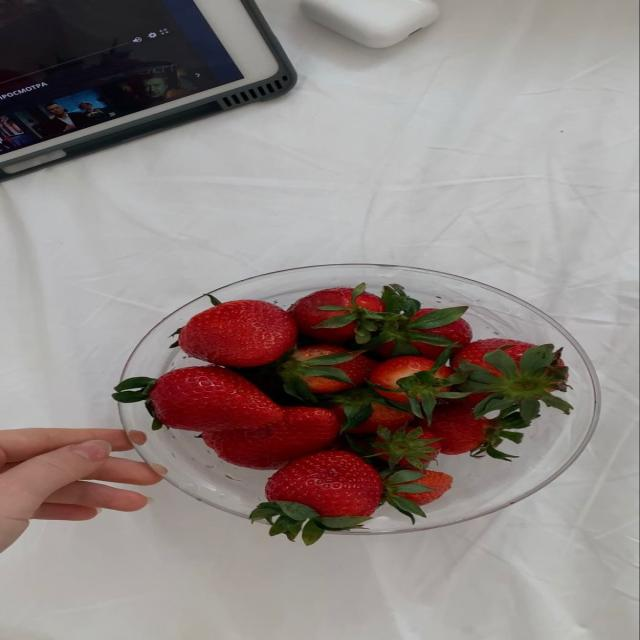strawberry: (251, 451, 382, 544), (113, 366, 282, 431), (453, 339, 572, 421), (203, 407, 338, 469), (178, 300, 297, 367), (265, 451, 382, 517), (367, 285, 472, 358), (370, 350, 465, 419), (289, 284, 384, 343), (429, 405, 529, 459), (280, 345, 375, 399), (376, 307, 472, 358), (332, 388, 413, 434), (384, 470, 452, 523), (430, 405, 489, 454), (374, 426, 441, 469)
